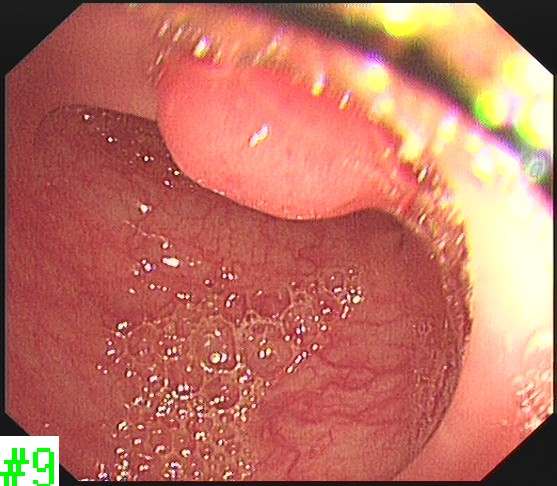adenoma: (152, 46, 430, 227)
